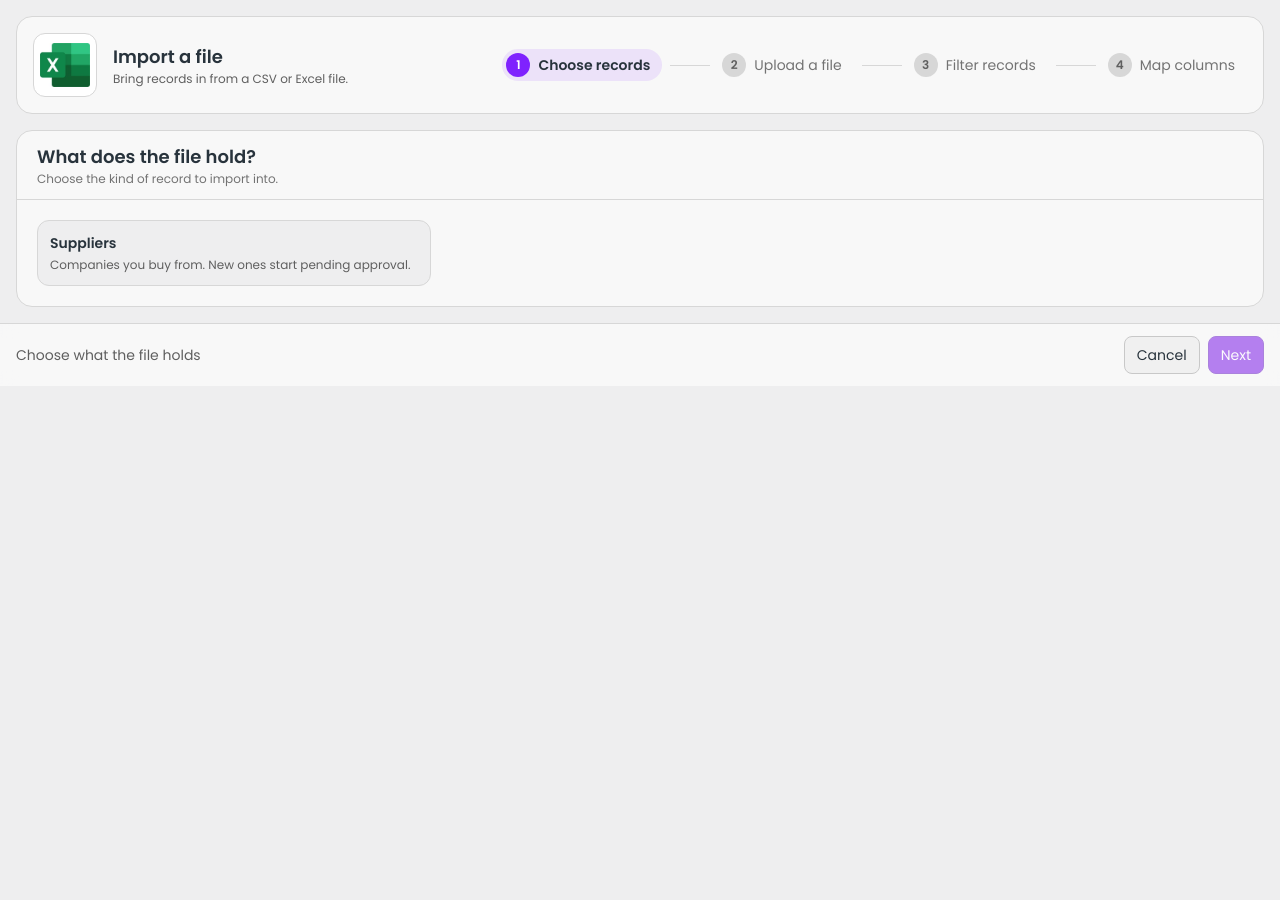
Test: file import wizard › step 1: makes the organisation's file connection when none exists yet, then moves on
Expected: the button "Next" is disabled, [1208,336,1264,374]
Click the button "Suppliers" at (234, 253), box [37,220,431,286]
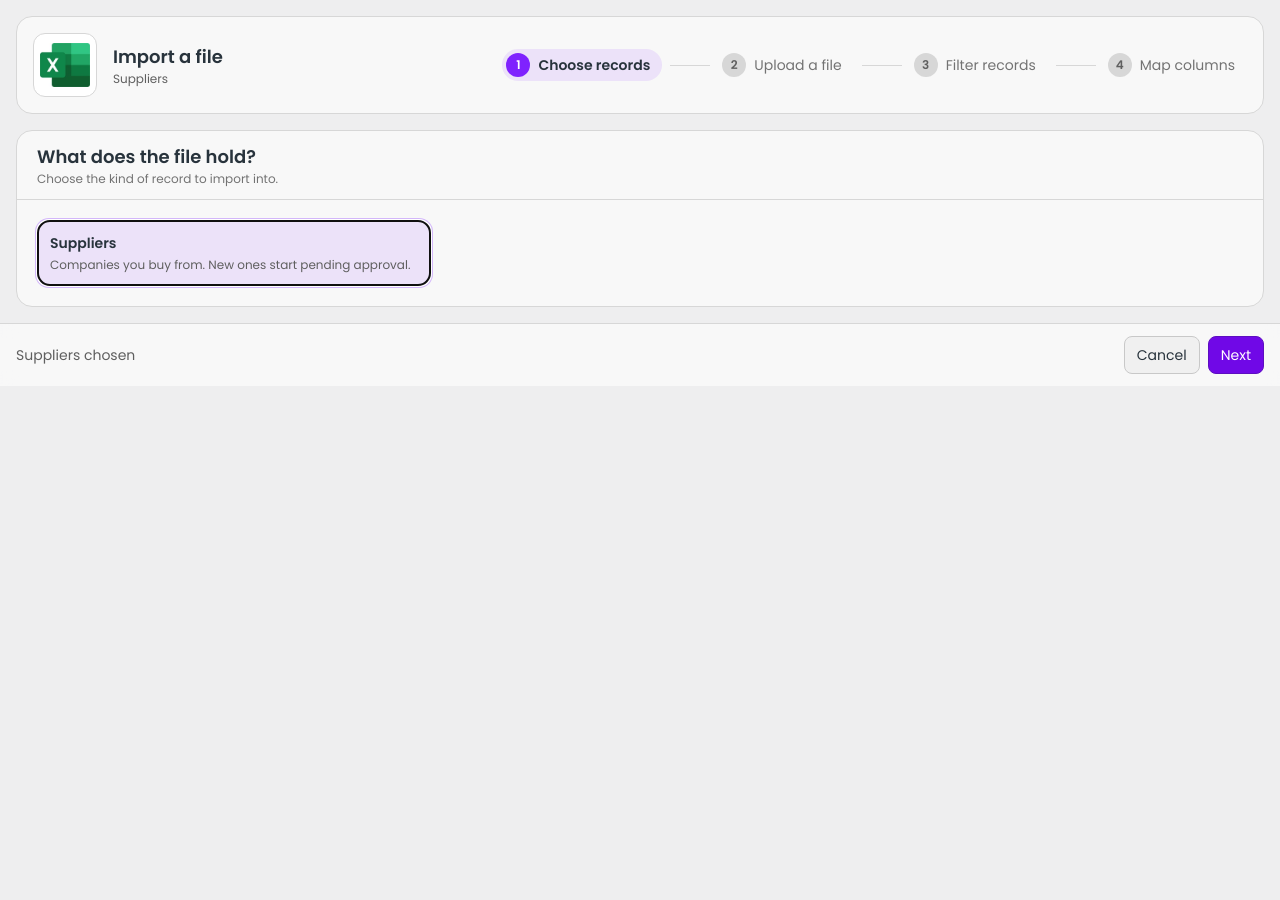
Click the button "Next" at (1236, 355), box [1208,336,1264,374]
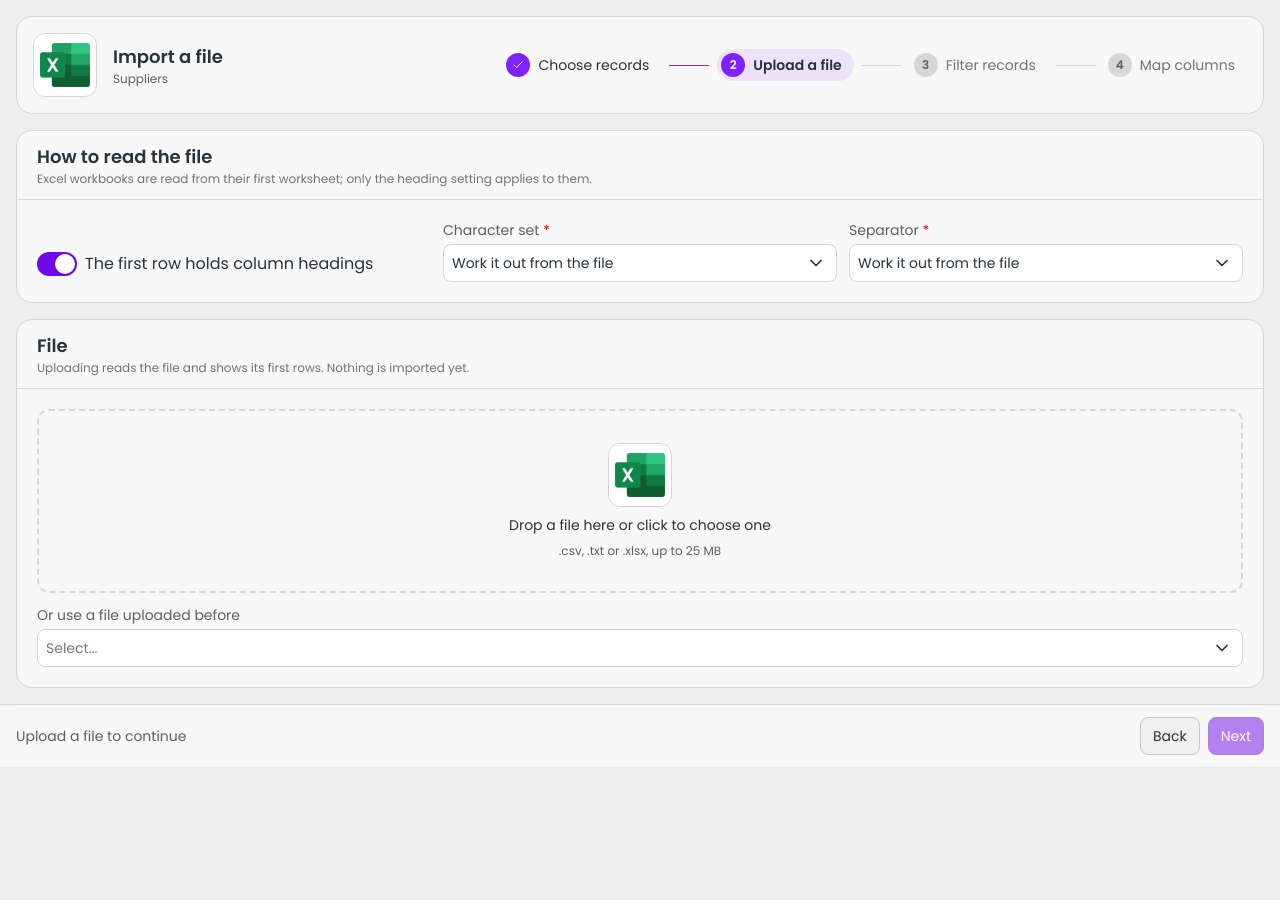
Now the heading "How to read the file" is shown, box [37,144,212,169]
